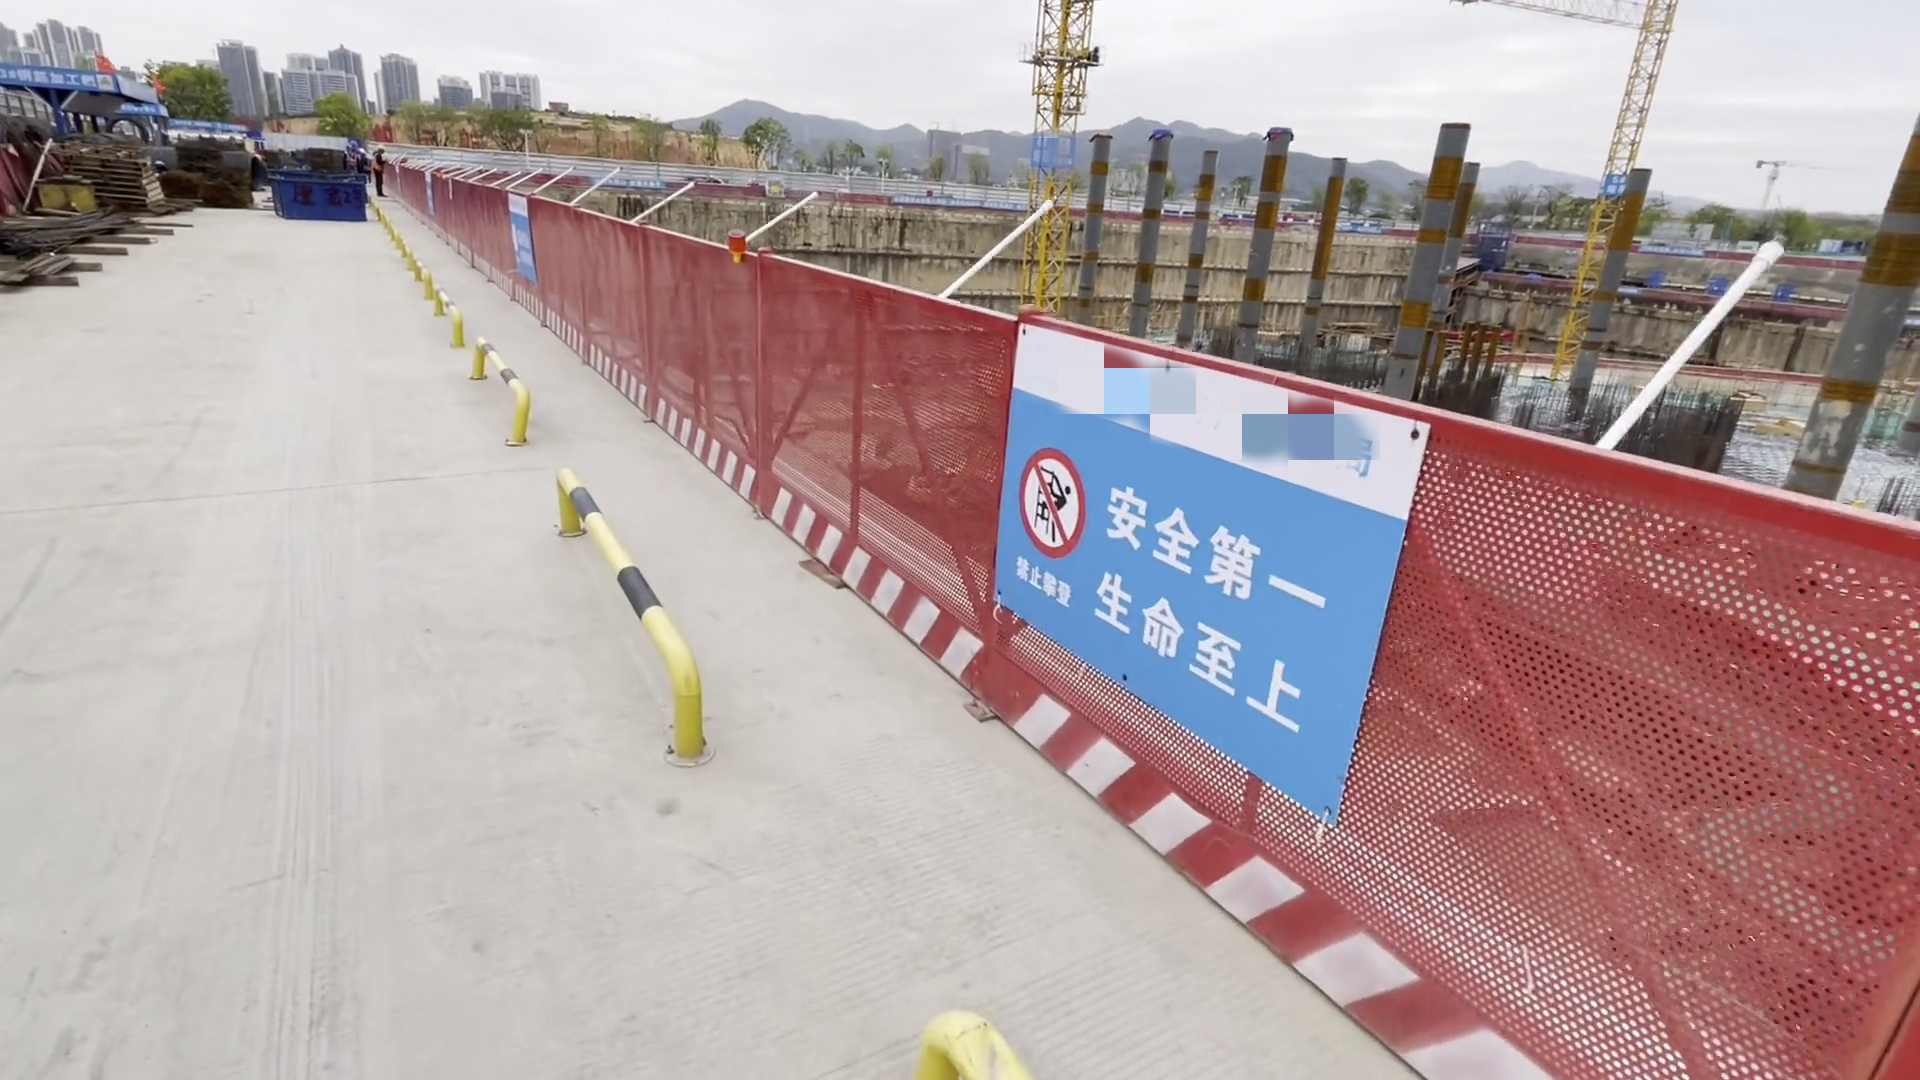fence: (387, 159, 1005, 711), (1419, 394, 1916, 1079)
hopper: (275, 176, 370, 221)
person: (370, 141, 390, 198)
rebar: (1, 213, 136, 280)
slogan: (978, 342, 1402, 760)
